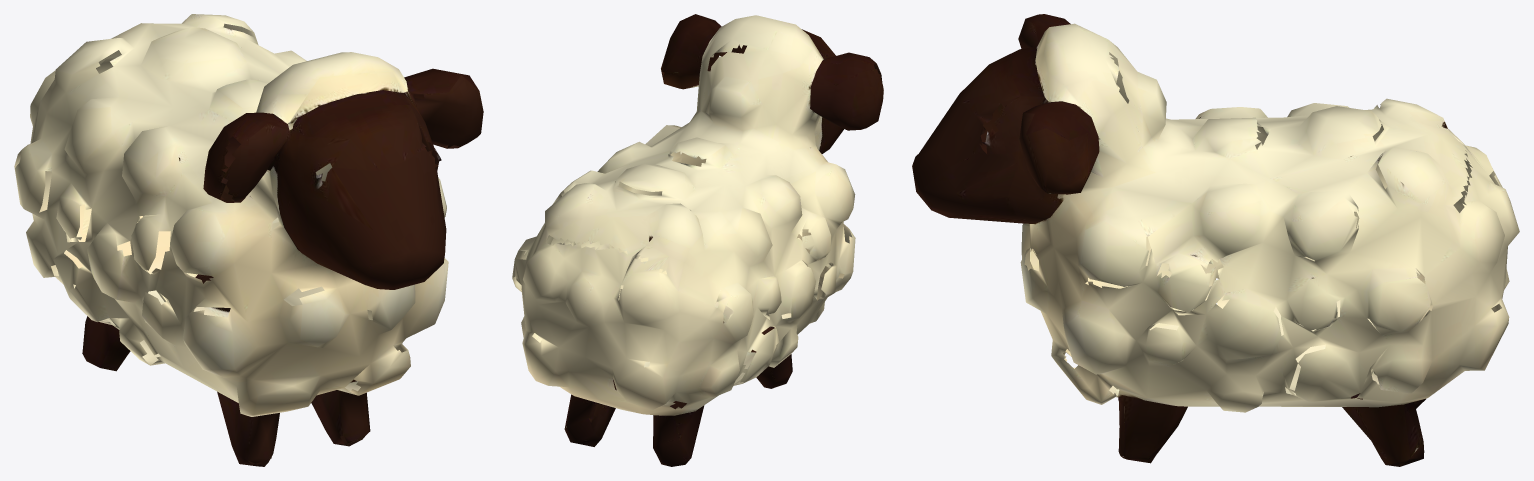
The model's file is sheep.54321dcd99b3.glb.
3 views of the same model, side by side, from view 1: azimuth 30°, elevation 25°; view 2: azimuth 150°, elevation 25°; view 3: azimuth 270°, elevation 25° (orthographic). The views are drawn at different scales.
Parts seen in each view (by area): view 1: Mesh_0; view 2: Mesh_0; view 3: Mesh_0.
Boxes of the visible parts, box(x1,y1,x2,y2) form: Mesh_0: box(14, 14, 483, 466); Mesh_0: box(512, 14, 883, 466); Mesh_0: box(912, 14, 1519, 466).
Bounding box in the file's own units: 0.8194 × 1.15 × 1.57.
1 material, 1 textured.
